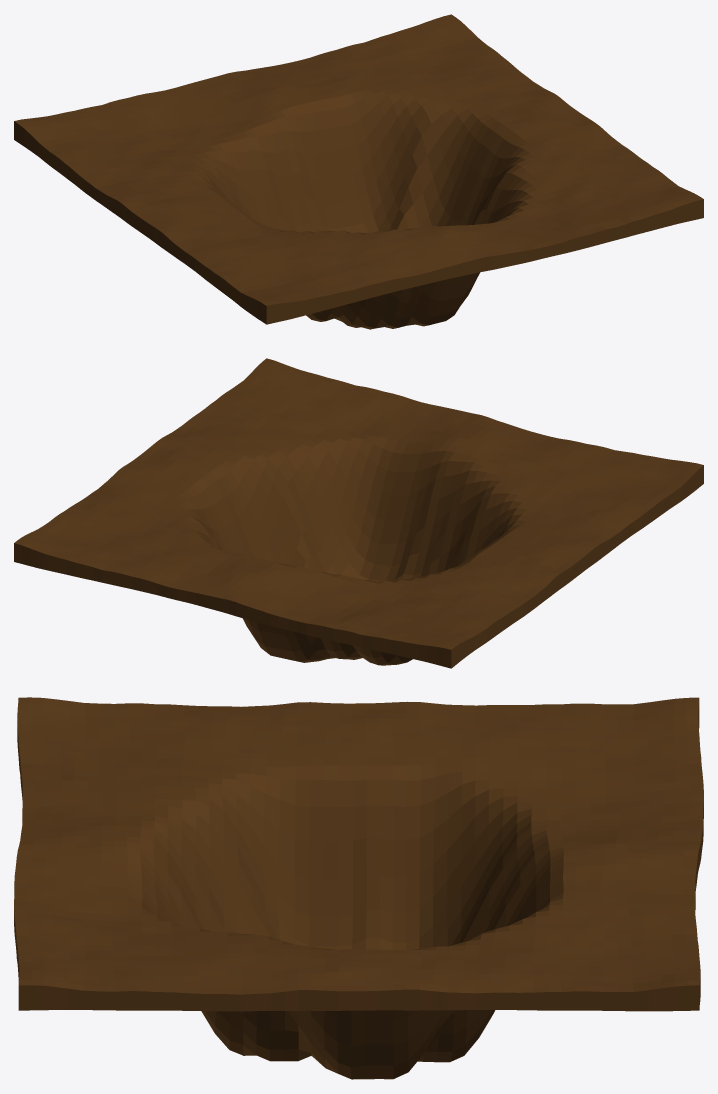
3 renders of one model, top to bottom at view 1: azimuth 30°, elevation 25°; view 2: azimuth 150°, elevation 25°; view 3: azimuth 270°, elevation 25°, orthographic. The views are drawn at different scales.
Parts seen in each view (by area): view 1: J-3; view 2: J-3; view 3: J-3.
Boxes of the visible parts, x1=… form: J-3: x1=14, y1=14, x2=703, y2=329; J-3: x1=14, y1=358, x2=703, y2=668; J-3: x1=14, y1=697, x2=703, y2=1079.
Bounding box in the file's own units: 7070 × 2152 × 7129.
